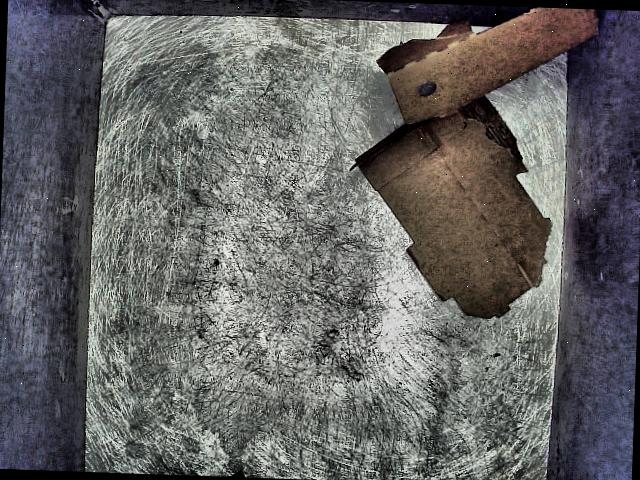Paper: (337, 1, 606, 338)
